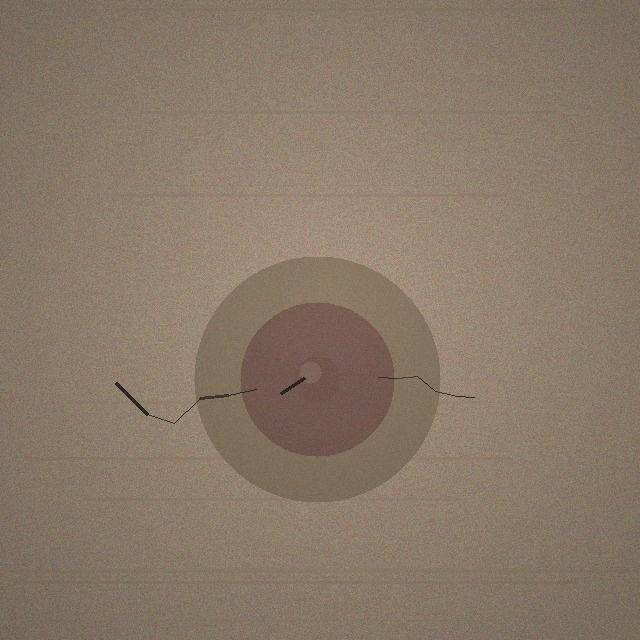crack: (194, 256, 440, 502)
